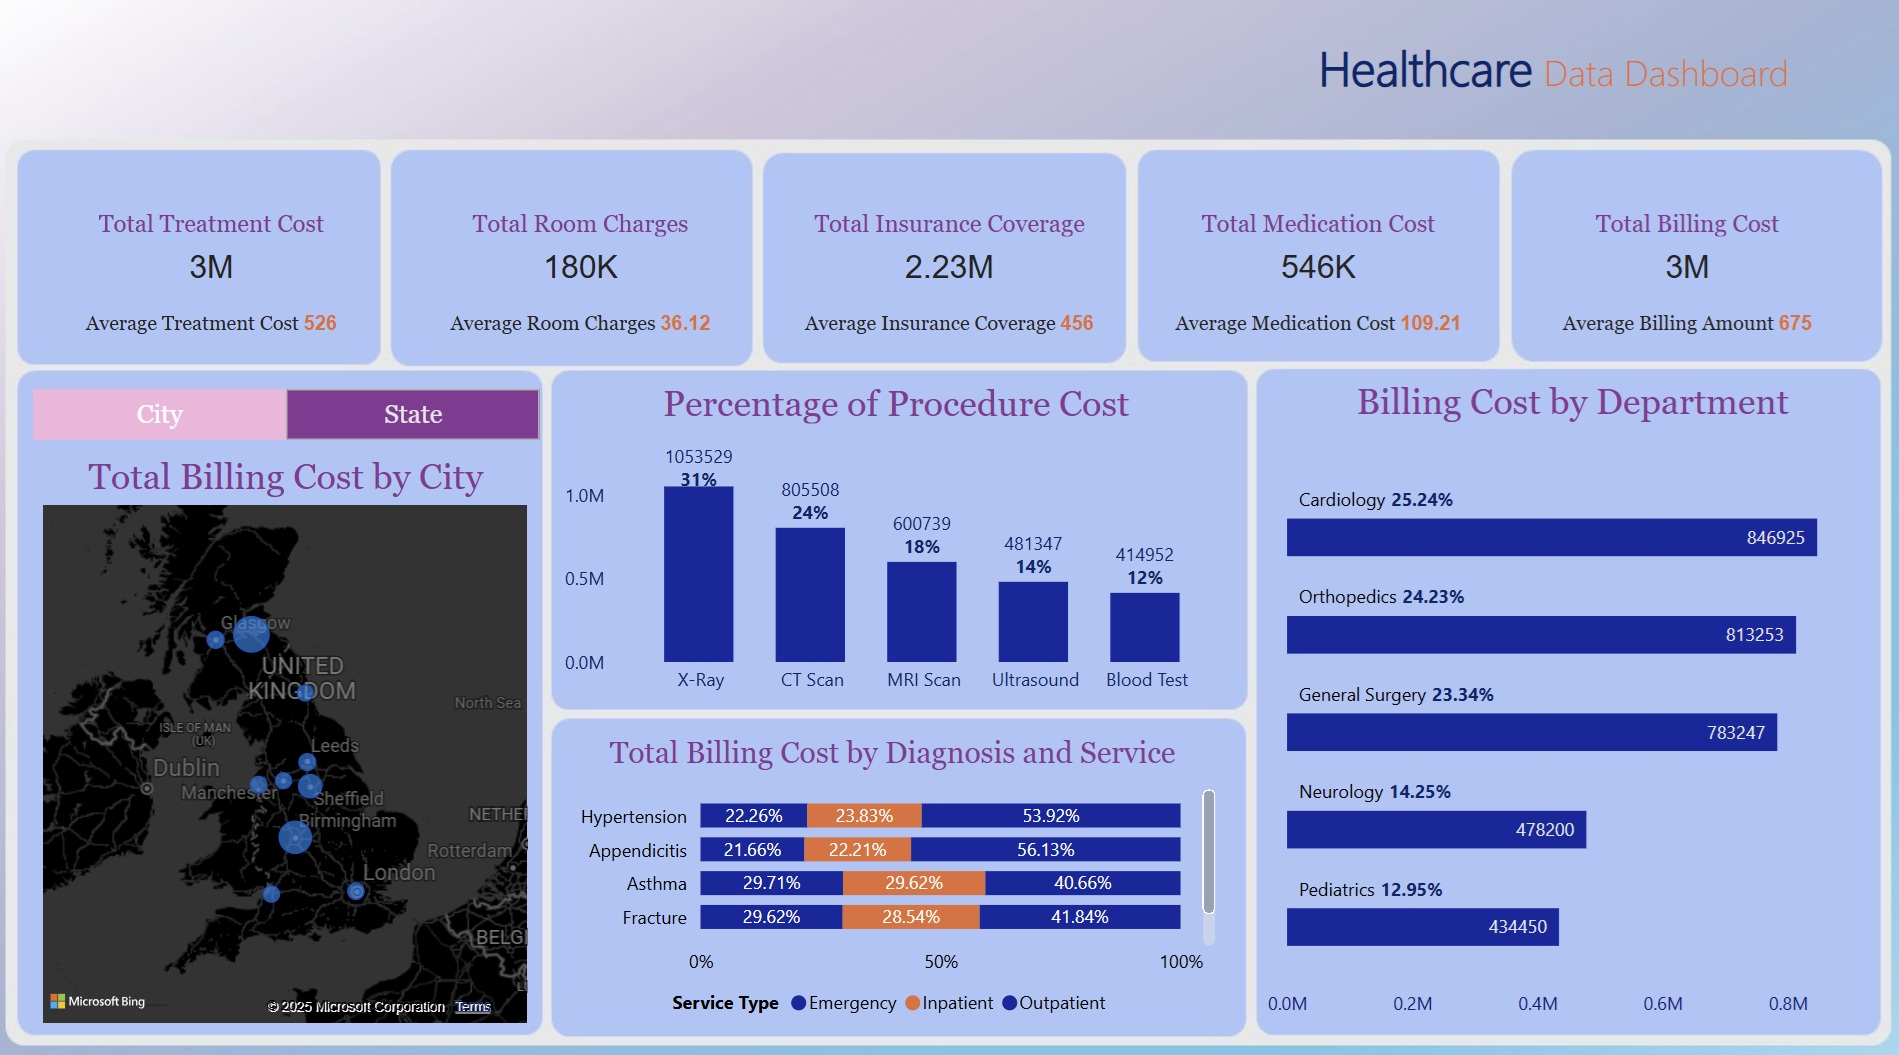

Layout of this report page (visuals, bound fields, positions):
{"tool":"powerbi","page":{"name":"Page 2","canvas":[1280,720],"ordinal":1},"visuals":[{"type":"clusteredColumnChart","title":"Percentage of Procedure Cost","fields":{"Category":["procedures.Procedure"],"Y":["Calculated KPIs.Total Billing Cost"]},"box":[378,261,453,216],"z":0},{"type":"map","fields":{"Category":["cities.City"],"Size":["Calculated KPIs.Total Billing Cost"]},"box":[31,310,333,383],"z":1000},{"type":"hundredPercentStackedBarChart","title":"Total Billing Cost by Diagnosis and Service","fields":{"Y":["Calculated KPIs.Total Billing Cost"],"Category":["diagnoses.Diagnosis"],"Series":["visits.Service Type"]},"box":[382,496,440,197],"z":2000},{"type":"clusteredBarChart","title":"Billing Cost by Department","fields":{"Category":["departments.Department"],"Y":["Calculated KPIs.Blank","Calculated KPIs.Total Billing Cost"]},"box":[846,260,419,433],"z":3000},{"type":"advancedSlicerVisual","fields":{"Values":["Bill Switch.Bill Switch"]},"box":[24,260,349,44],"z":4000},{"type":"cardVisual","fields":{"Data":["Calculated KPIs.Total Treatment Cost","Calculated KPIs.Total Room Charges","Calculated KPIs.Total Insurance Coverage","Calculated KPIs.Total Medication Cost","Calculated KPIs.Total Billing Cost"]},"box":[23,107,1234,143],"z":5000},{"type":"textbox","box":[881,23,349,55],"z":6000}]}

Visuals, with their boxes in screenshot pixels (x1, y1, x2, y2), scaled from the page's 1280x720 canvas onto the 1899x1055 screenshot:
"Percentage of Procedure Cost" clusteredColumnChart: 561/382/1233/699
map - cities.City x Calculated KPIs.Total Billing Cost: 46/454/540/1015
"Total Billing Cost by Diagnosis and Service" hundredPercentStackedBarChart: 567/727/1220/1015
"Billing Cost by Department" clusteredBarChart: 1255/381/1877/1015
advancedSlicerVisual - Bill Switch.Bill Switch: 36/381/553/445
cardVisual - Calculated KPIs.Total Treatment Cost x Calculated KPIs.Total Room Charges: 34/157/1865/366
textbox: 1307/34/1825/114
